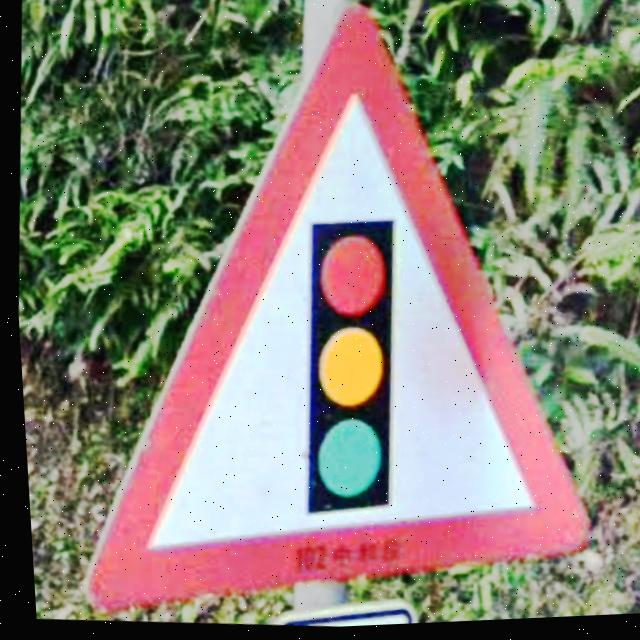signalahead: (77, 9, 582, 611)
